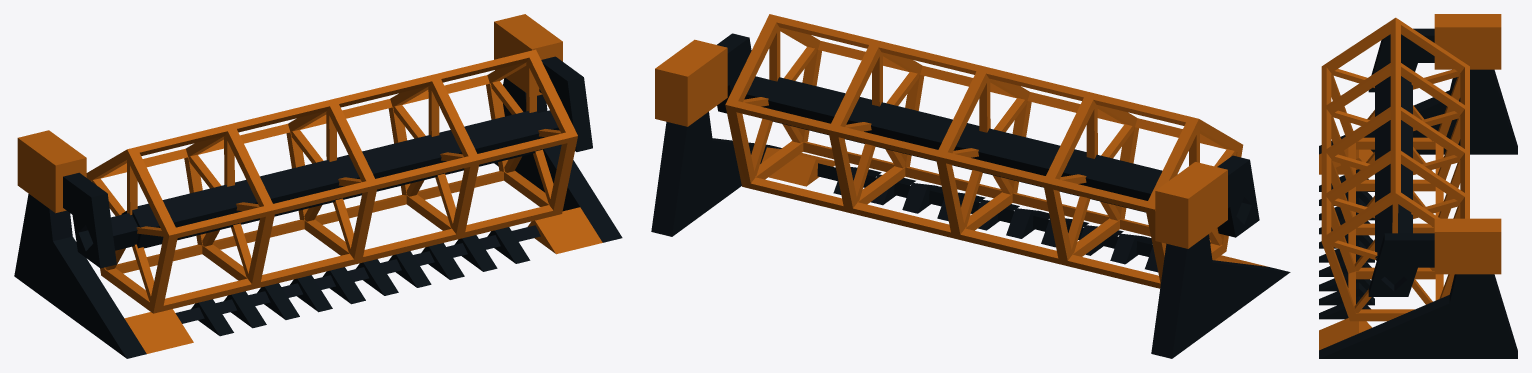
Rendered from Agricultural_Machine_2.fbx.
The picture shows the model from 3 angles, left to right: view 1: azimuth 30°, elevation 25°; view 2: azimuth 150°, elevation 25°; view 3: azimuth 270°, elevation 25°; orthographic projection. The views are drawn at different scales.
Visible parts, largest first — view 1: Agricultural_Machine_2; view 2: Agricultural_Machine_2; view 3: Agricultural_Machine_2.
Boxes of the visible parts, x1,y1,x2,y2 form: Agricultural_Machine_2: (14,14,622,358); Agricultural_Machine_2: (651,14,1290,358); Agricultural_Machine_2: (1319,14,1517,358).
Bounding box in the file's own units: 132 × 41.47 × 50.74.
